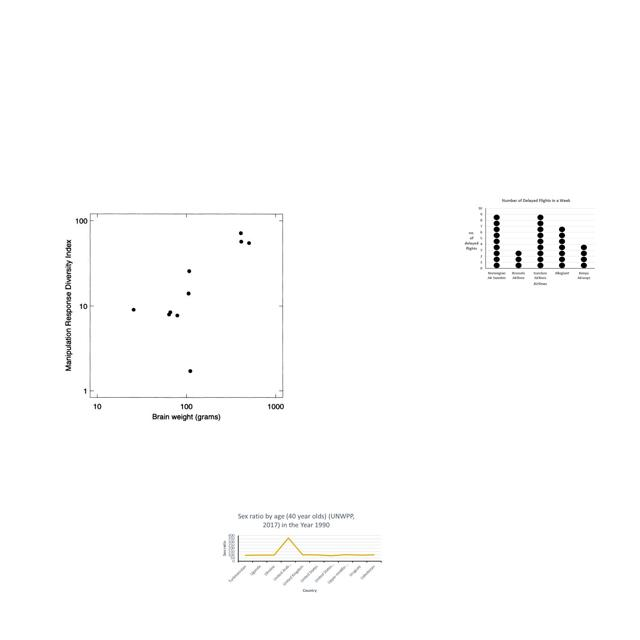Graph: (57, 201, 296, 428), (219, 510, 384, 594), (463, 197, 595, 286)
